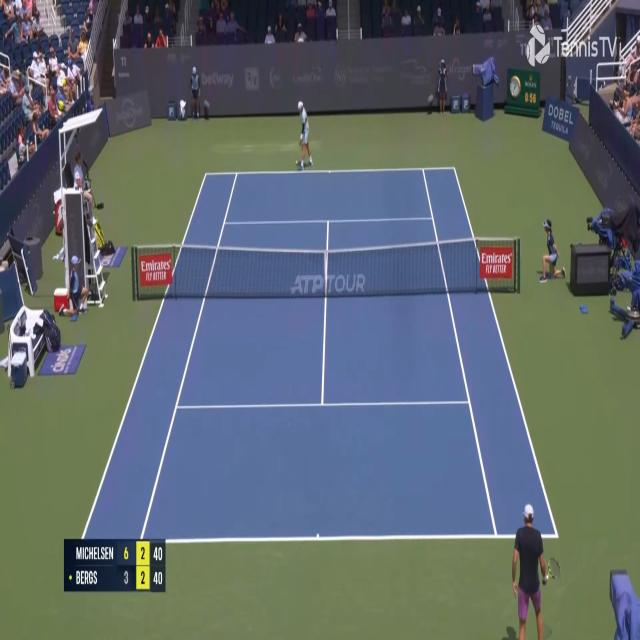tennis-player: (510, 501, 562, 640), (293, 97, 315, 174)
